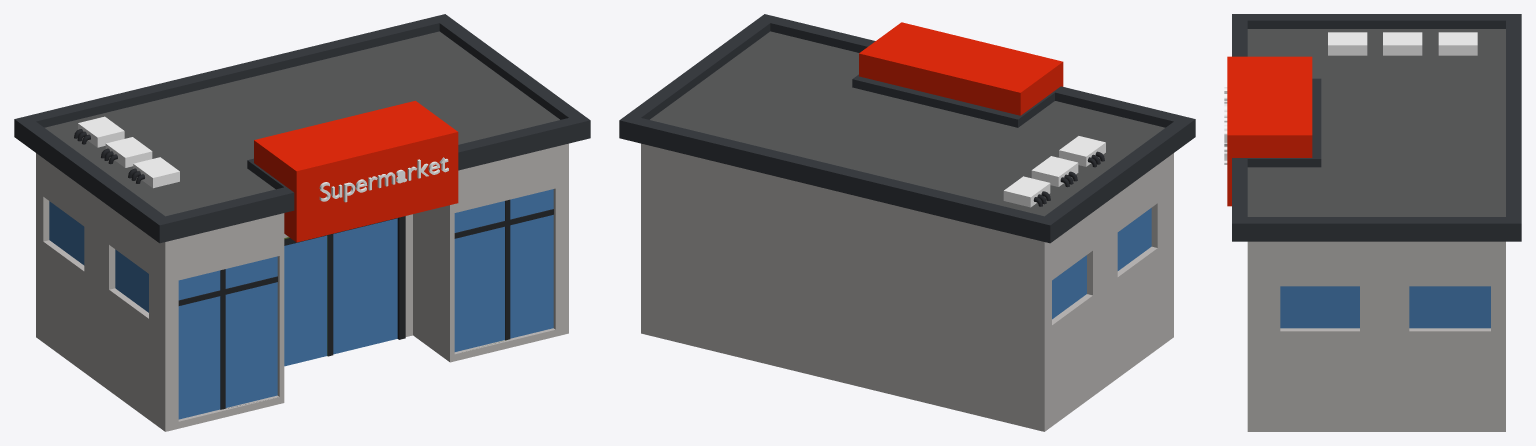
Rendered from Supermarket_1.fbx.
3 views of the same model, side by side, from view 1: azimuth 30°, elevation 25°; view 2: azimuth 150°, elevation 25°; view 3: azimuth 270°, elevation 25° (orthographic).
Visible parts, largest first — view 1: Supermarket_1; view 2: Supermarket_1; view 3: Supermarket_1.
Boxes of the visible parts, <box> form: Supermarket_1: <box>14,14,590,431</box>; Supermarket_1: <box>619,14,1195,431</box>; Supermarket_1: <box>1224,14,1521,431</box>.
Bounding box in the file's own units: 1727 × 913 × 1034.
